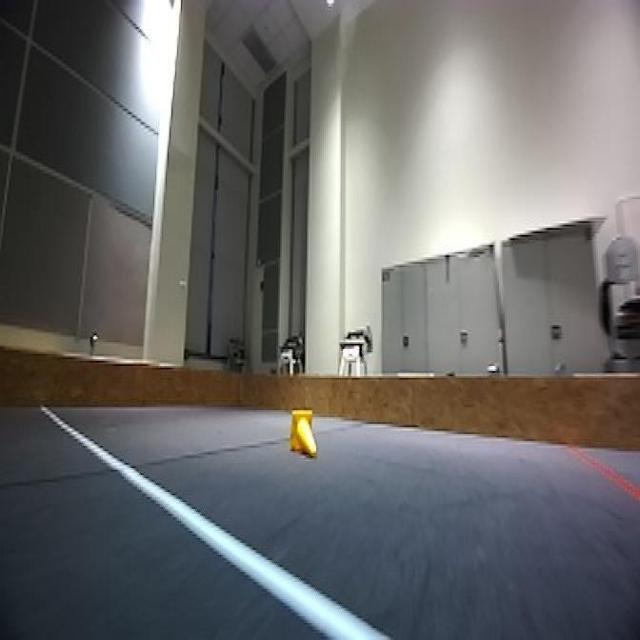frc_cone: (290, 409, 318, 456)
